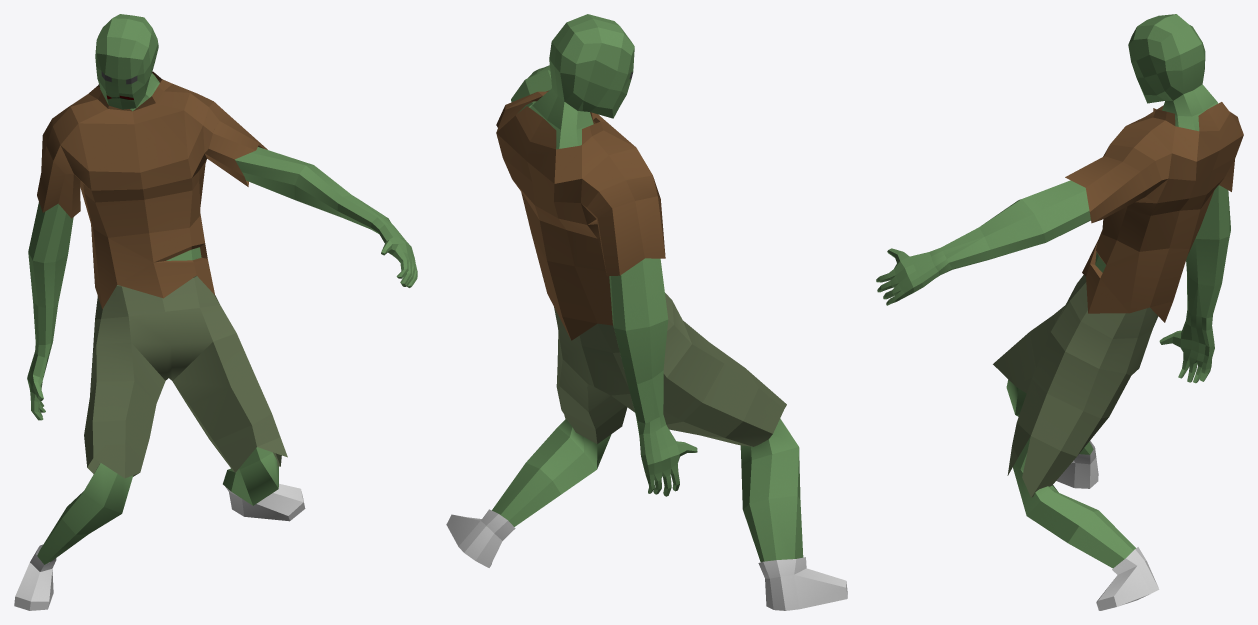
Rendered from ZombieDead(36).obj.
3 renders of one model, left to right at view 1: azimuth 30°, elevation 25°; view 2: azimuth 150°, elevation 25°; view 3: azimuth 270°, elevation 25°, orthographic. The views are drawn at different scales.
Visible parts, largest first — view 1: Object001; view 2: Object001; view 3: Object001.
Part boxes in pixels (box(x1,y1,x2,y2)): Object001: box(14, 14, 417, 610); Object001: box(446, 14, 847, 610); Object001: box(876, 14, 1243, 610).
Size of the model in its own units: 34.76 by 51.5 by 32.41.
